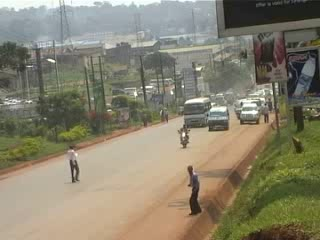Car: (237, 101, 262, 126)
Motorcycle: (177, 128, 191, 151)
